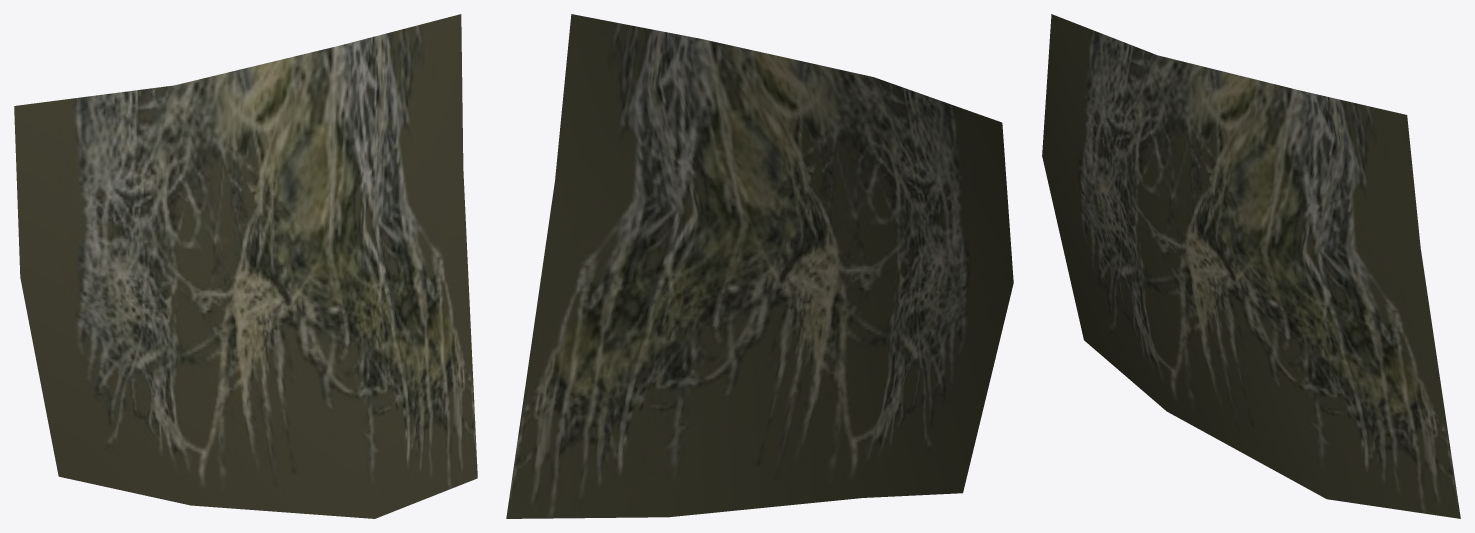
The model's file is pir_m_prp_dvj_tornSailFlat.fbx.
The picture shows the model from 3 angles, left to right: view 1: azimuth 30°, elevation 25°; view 2: azimuth 150°, elevation 25°; view 3: azimuth 330°, elevation 25°; orthographic projection. The views are drawn at different scales.
Parts seen in each view (by area): view 1: sail5, sail4; view 2: sail5, sail4; view 3: sail5, sail4.
Boxes of the visible parts, x1,y1,x2,y2 form: sail5: [14, 14, 477, 518]; sail4: [14, 14, 476, 518]; sail5: [506, 14, 1013, 518]; sail4: [518, 14, 1012, 518]; sail5: [1042, 14, 1460, 518]; sail4: [1042, 16, 1459, 517].
Size of the model in its own units: 469 by 466 by 73.74.
Materials: 1 (1 with a texture image).
